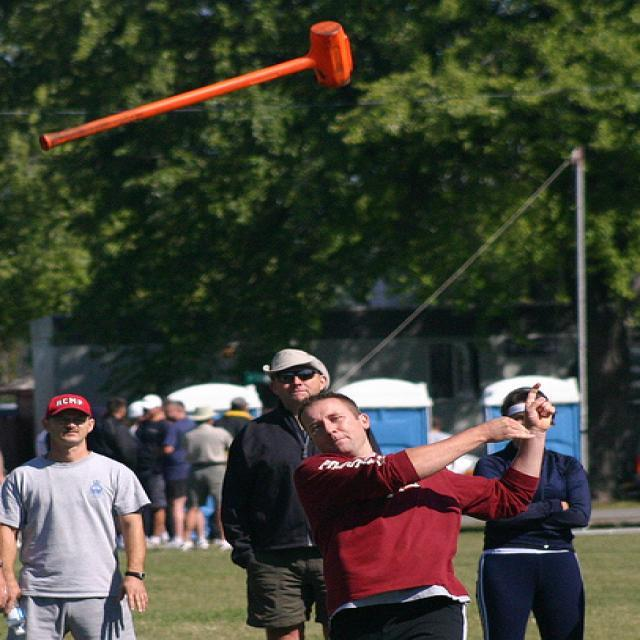hammer: (36, 15, 360, 157)
